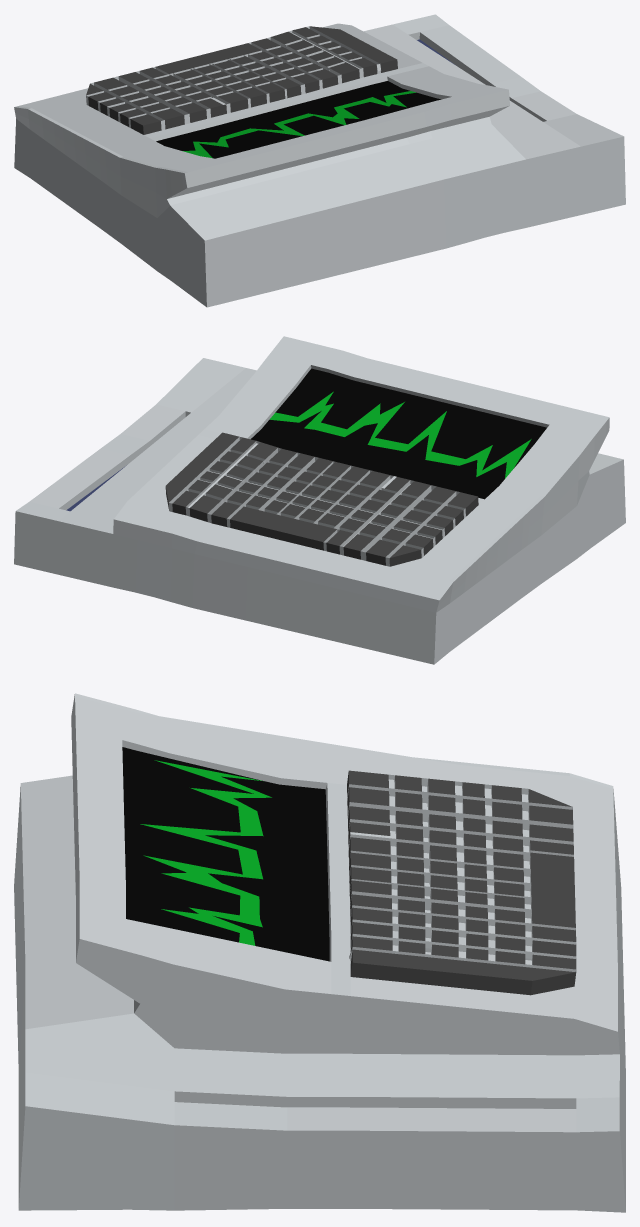
File: ELECTRO.glb
3 renders of one model, top to bottom at view 1: azimuth 30°, elevation 25°; view 2: azimuth 150°, elevation 25°; view 3: azimuth 270°, elevation 25°, orthographic. The views are drawn at different scales.
Visible parts, largest first — view 1: Cube; view 2: Cube; view 3: Cube.
Part boxes in pixels (bbox=[...]): Cube: bbox=[14, 14, 625, 307]; Cube: bbox=[14, 336, 625, 664]; Cube: bbox=[14, 693, 625, 1212].
Bounding box in the file's own units: 24.83 × 7.07 × 19.7.
